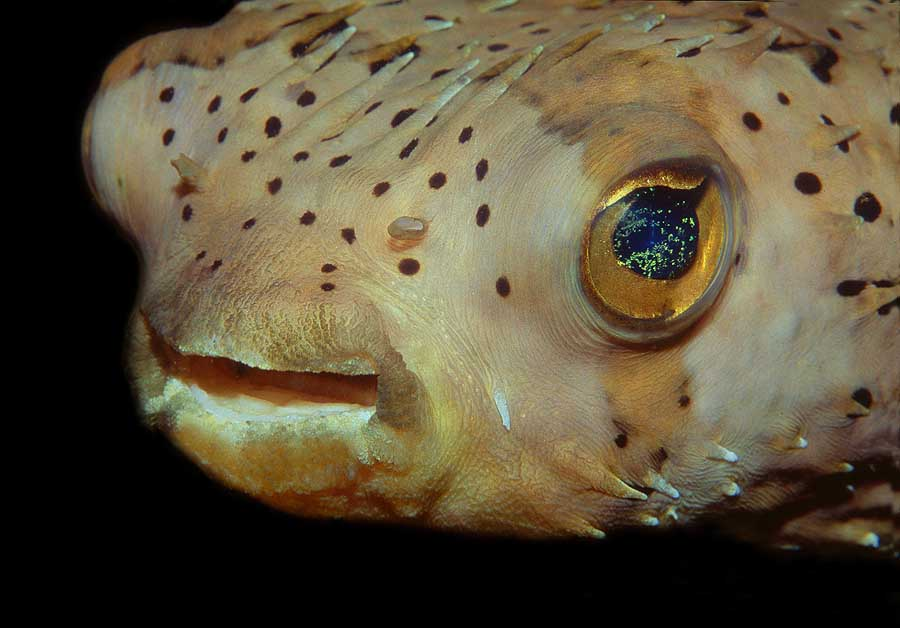Diodon_holocanthus: (88, 13, 900, 565)
